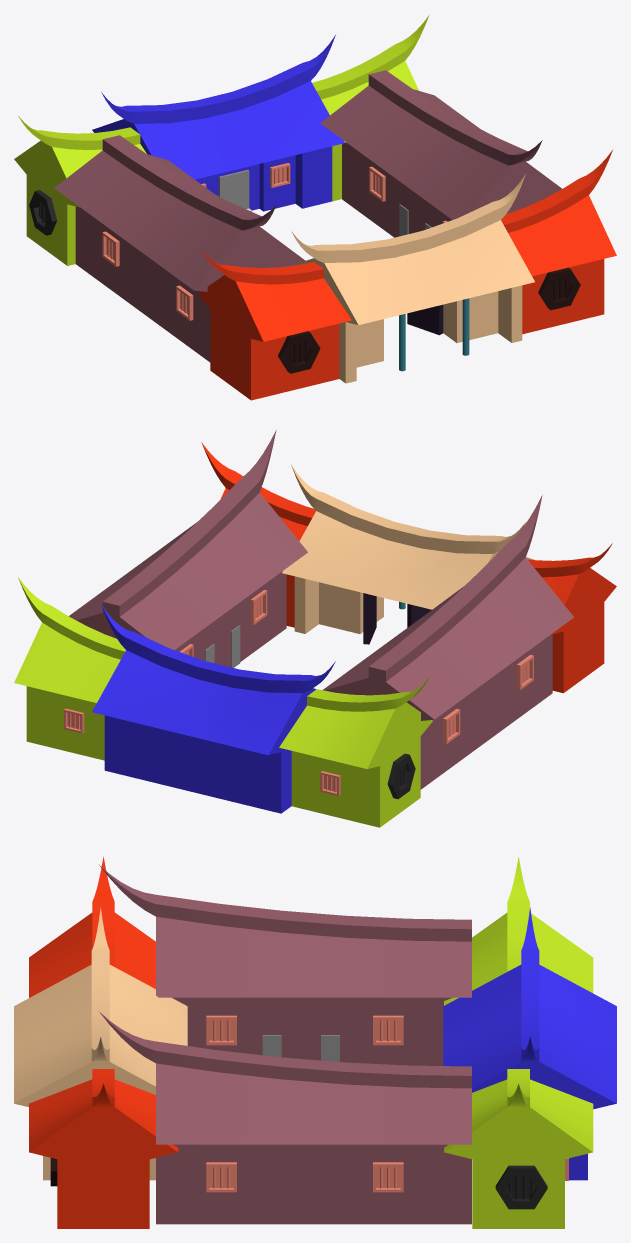
The picture shows the model from 3 angles, top to bottom: view 1: azimuth 30°, elevation 25°; view 2: azimuth 150°, elevation 25°; view 3: azimuth 270°, elevation 25°; orthographic projection. The views are drawn at different scales.
Visible parts, largest first — view 1: 護龍, 前門護龍, 前大門, 祠堂, 祠堂旁護龍, 五邊形窗, 門, 護龍窗_1, 五邊形窗_後, 柱, 大門; view 2: 護龍, 祠堂, 祠堂旁護龍 (×2), 前大門, 前門護龍, 護龍窗_2, 大門, 五邊形窗_後, 護龍窗_1, 門; view 3: 護龍, 前門護龍, 祠堂旁護龍, 祠堂, 前大門, 護龍窗_2, 護龍窗_1, 五邊形窗_後, 門.
Boxes of the visible parts, <box> form: 護龍: <box>54,70,561,362</box>; 前門護龍: <box>198,150,616,400</box>; 前大門: <box>291,174,534,383</box>; 祠堂: <box>92,35,344,211</box>; 祠堂旁護龍: <box>14,15,429,265</box>; 五邊形窗: <box>278,267,580,373</box>; 門: <box>218,170,431,236</box>; 護龍窗_1: <box>102,166,385,266</box>; 五邊形窗_後: <box>29,190,56,235</box>; 柱: <box>399,298,469,371</box>; 大門: <box>407,304,443,335</box>; 護龍: <box>69,430,573,789</box>; 祠堂: <box>92,604,335,813</box>; 祠堂旁護龍 (×2): <box>14,577,432,827</box>; 前大門: <box>282,464,534,633</box>; 前門護龍: <box>201,442,616,693</box>; 護龍窗_2: <box>250,590,533,689</box>; 大門: <box>363,593,431,644</box>; 五邊形窗_後: <box>387,753,415,799</box>; 護龍窗_1: <box>180,644,460,743</box>; 門: <box>205,625,240,667</box>; 護龍: <box>99,865,471,1224</box>; 前門護龍: <box>29,856,178,1228</box>; 祠堂旁護龍: <box>444,857,593,1228</box>; 祠堂: <box>443,907,616,1180</box>; 前大門: <box>14,907,187,1180</box>; 護龍窗_2: <box>206,1015,236,1192</box>; 護龍窗_1: <box>373,1015,403,1192</box>; 五邊形窗_後: <box>495,1165,547,1209</box>; 門: <box>262,1035,339,1061</box>.
Bounding box in the file's own units: 422 × 168 × 473.
